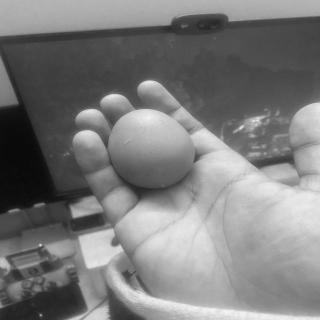Telur: (105, 104, 201, 194)
